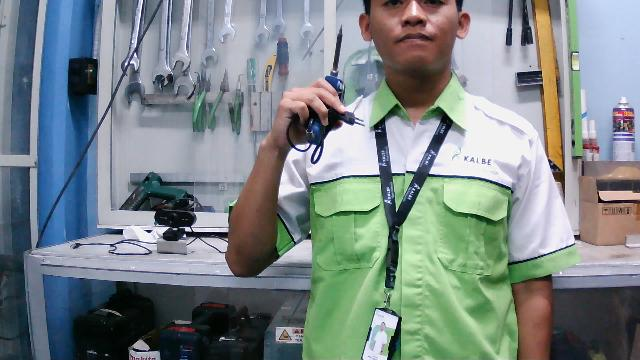solder_electrical: (286, 23, 364, 166)
